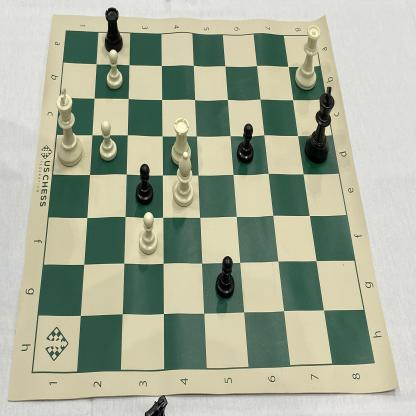black-king: (303, 82, 338, 168)
black-pawn: (213, 251, 238, 302), (132, 159, 156, 210), (233, 119, 256, 168)
black-rook: (101, 4, 125, 55)
white-bishop: (170, 150, 198, 213)
white-king: (52, 82, 85, 169)
white-pawn: (137, 210, 163, 260), (95, 118, 122, 164), (103, 47, 125, 93)
white-queen: (293, 21, 323, 90)
white-rook: (167, 110, 194, 168)
